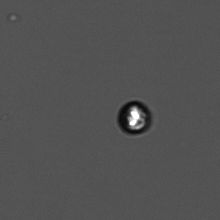Living Cell: (114, 95, 154, 136)
